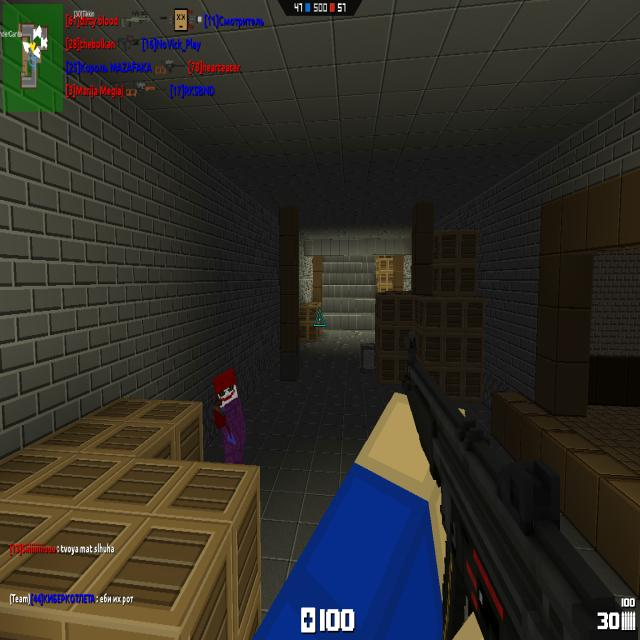enemy: (211, 367, 248, 462)
